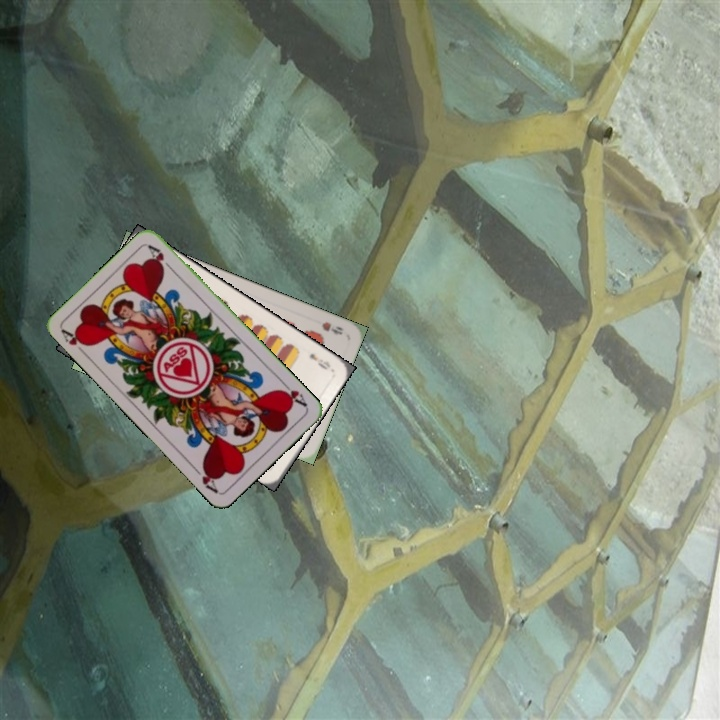E9: (305, 349, 333, 372)
H9: (318, 318, 345, 337)
HA: (275, 377, 310, 410), (58, 325, 91, 359)
